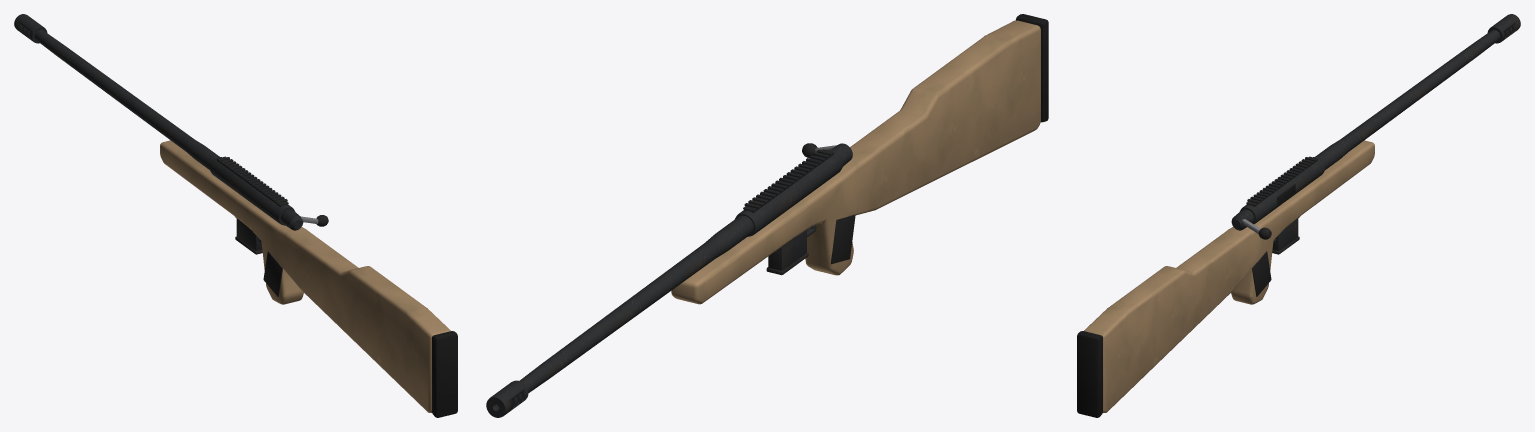
File: Sniper.glb
3 views of the same model, side by side, from view 1: azimuth 30°, elevation 25°; view 2: azimuth 150°, elevation 25°; view 3: azimuth 330°, elevation 25° (orthographic). The views are drawn at different scales.
Parts seen in each view (by area): view 1: Sniper_Body, Sniper_Magazine; view 2: Sniper_Body, Sniper_Magazine; view 3: Sniper_Body, Sniper_Magazine.
Boxes of the visible parts, x1,y1,x2,y2 form: Sniper_Body: (14,14,457,417); Sniper_Magazine: (235,218,262,254); Sniper_Body: (486,14,1048,417); Sniper_Magazine: (766,230,808,275); Sniper_Body: (1077,14,1520,417); Sniper_Magazine: (1272,218,1299,254).
Bounding box in the file's own units: 0.0825 × 0.1769 × 1.41.
9 materials, 8 textured.
